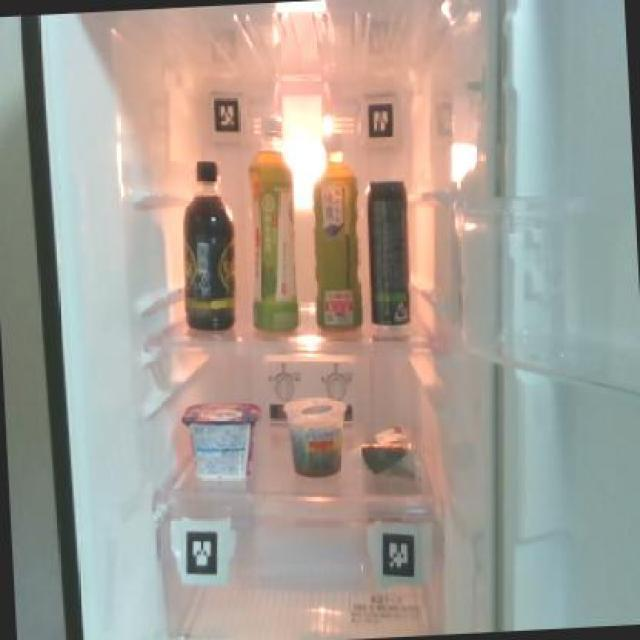bottle: (240, 109, 302, 334), (303, 130, 363, 328)
can: (362, 174, 412, 328)
coffee: (174, 154, 240, 328)
pudding: (281, 388, 350, 478)
rice_ball: (354, 420, 423, 482)
yogurt: (180, 392, 263, 483)
